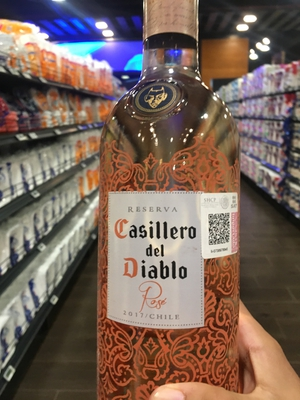casillero del diablo rose: (93, 1, 251, 400)
